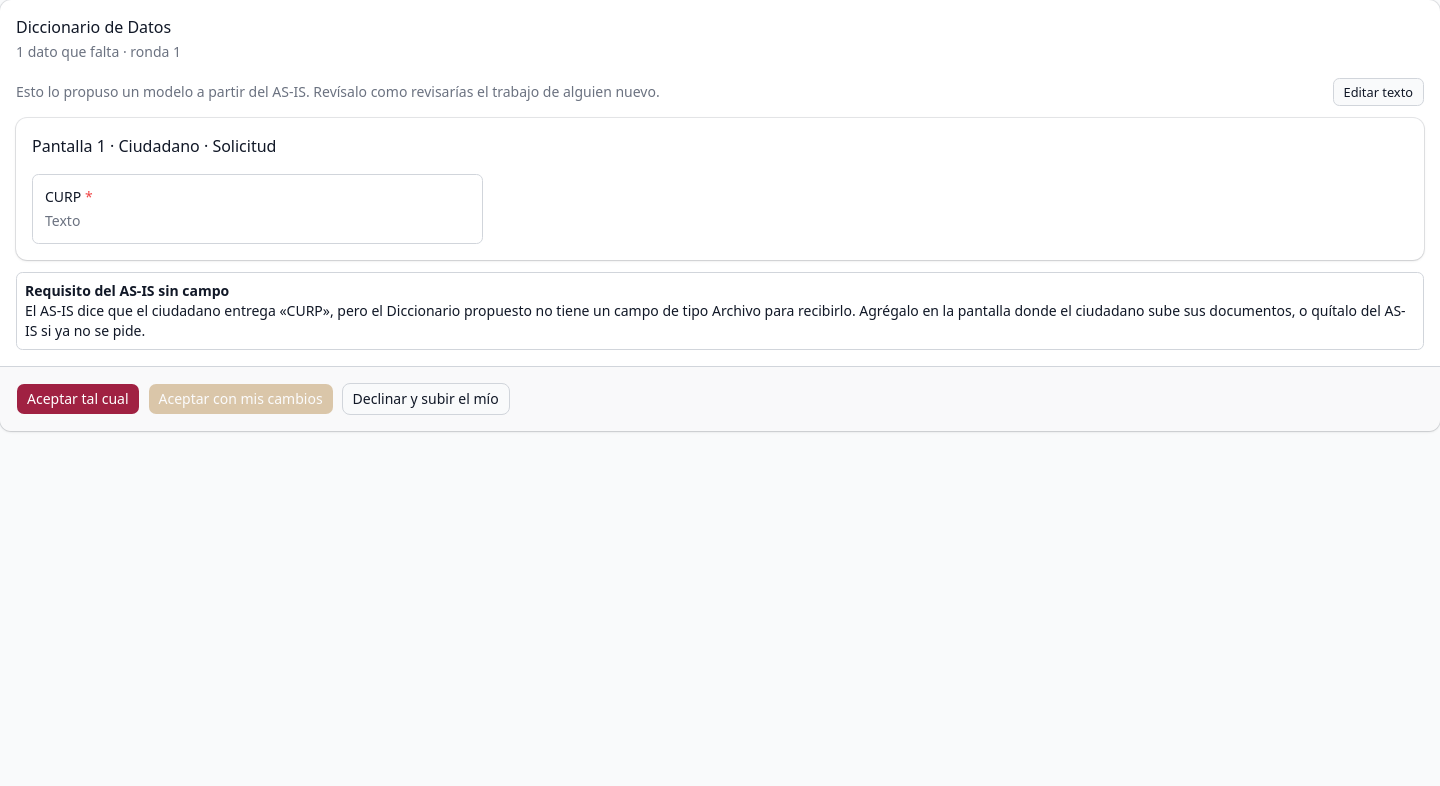
Test: con cambios sin aceptar lo dice, aunque se este viendo la vista o el diagrama
Expected: the text "cambios sin aceptar" is not shown
Click the button "Editar texto". click: (1378,92)
box: [1333,78,1424,106]
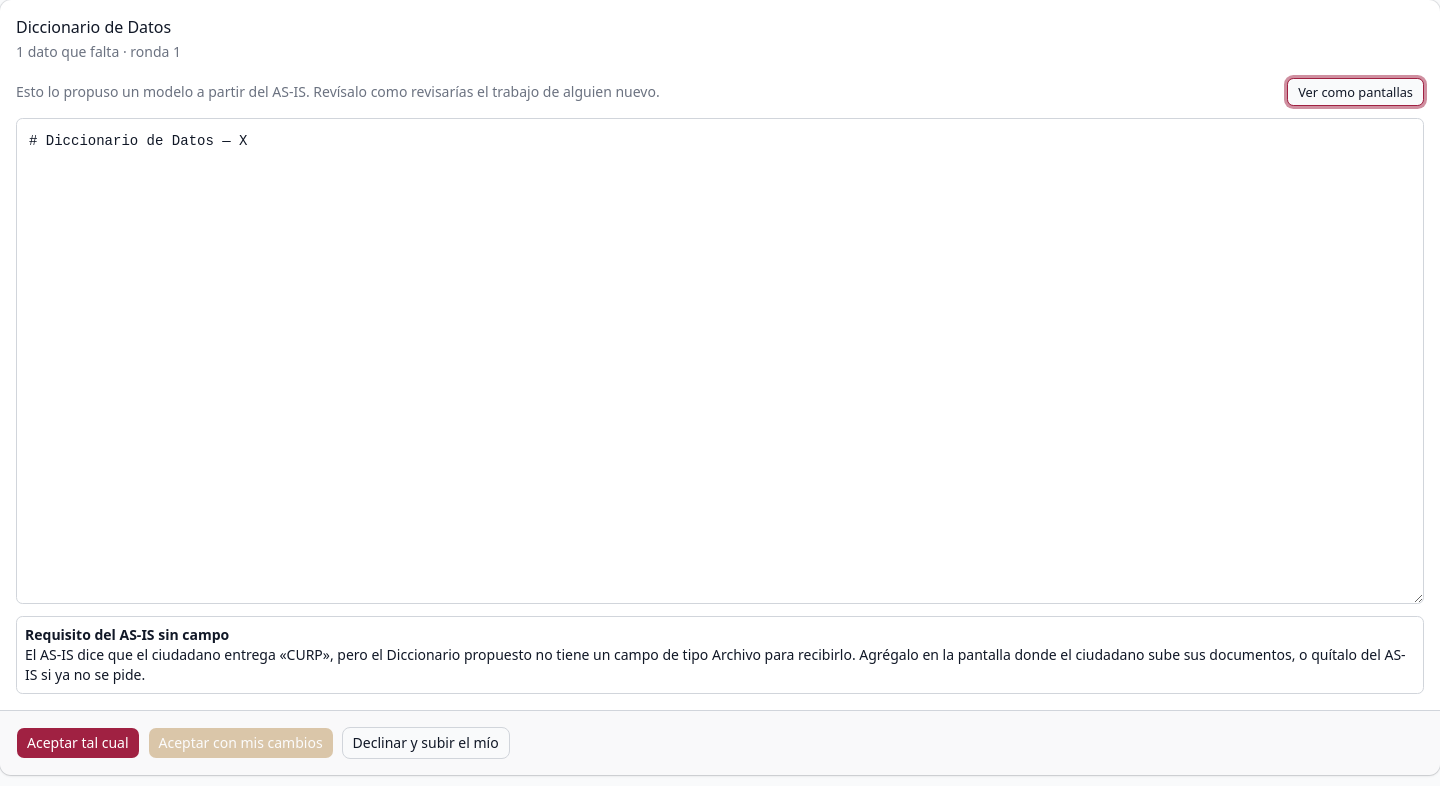
Type "más" into the text box. click: (720,361)
box: [16,118,1424,604]
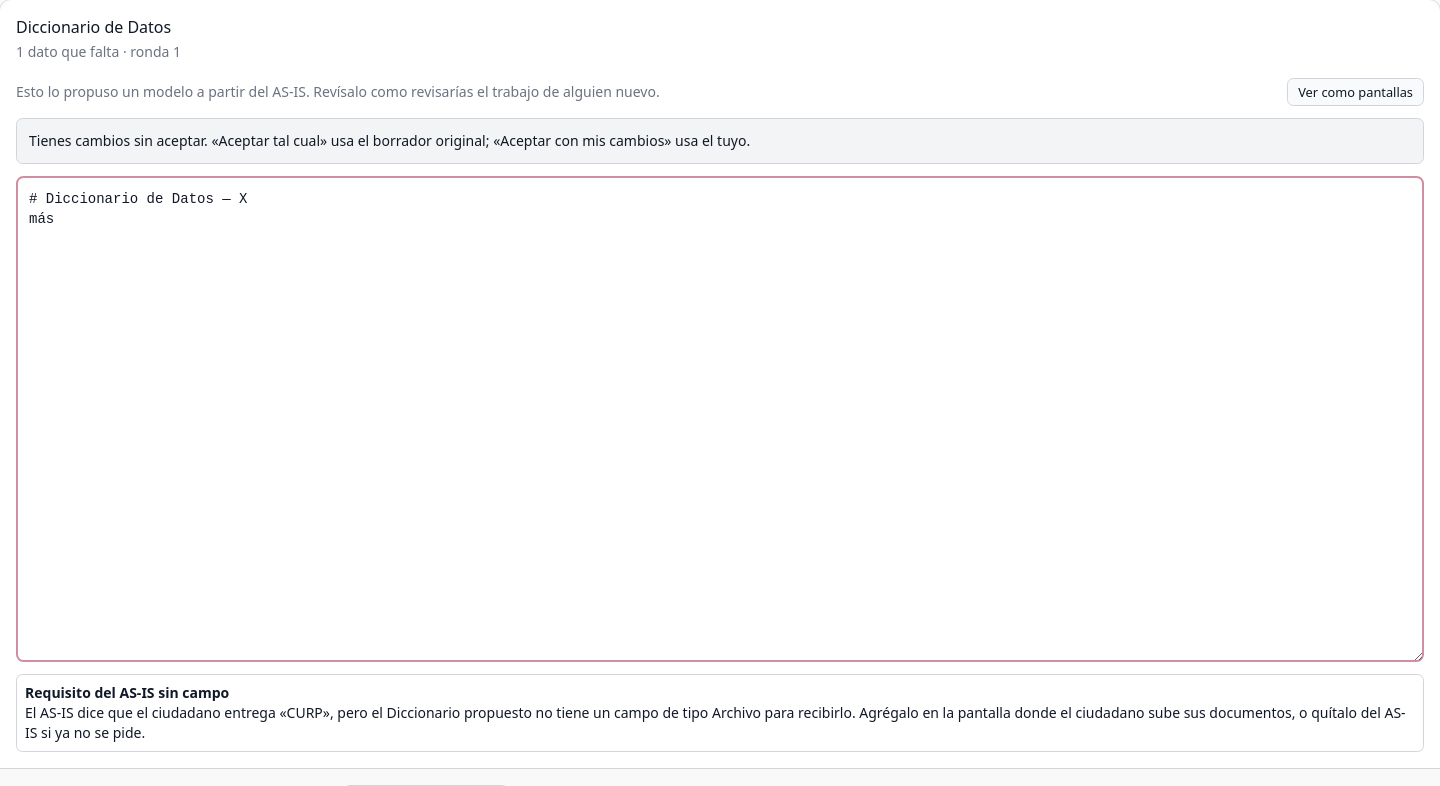
Click the button "Ver como pantallas". click: (1356,92)
box: [1287,78,1424,106]
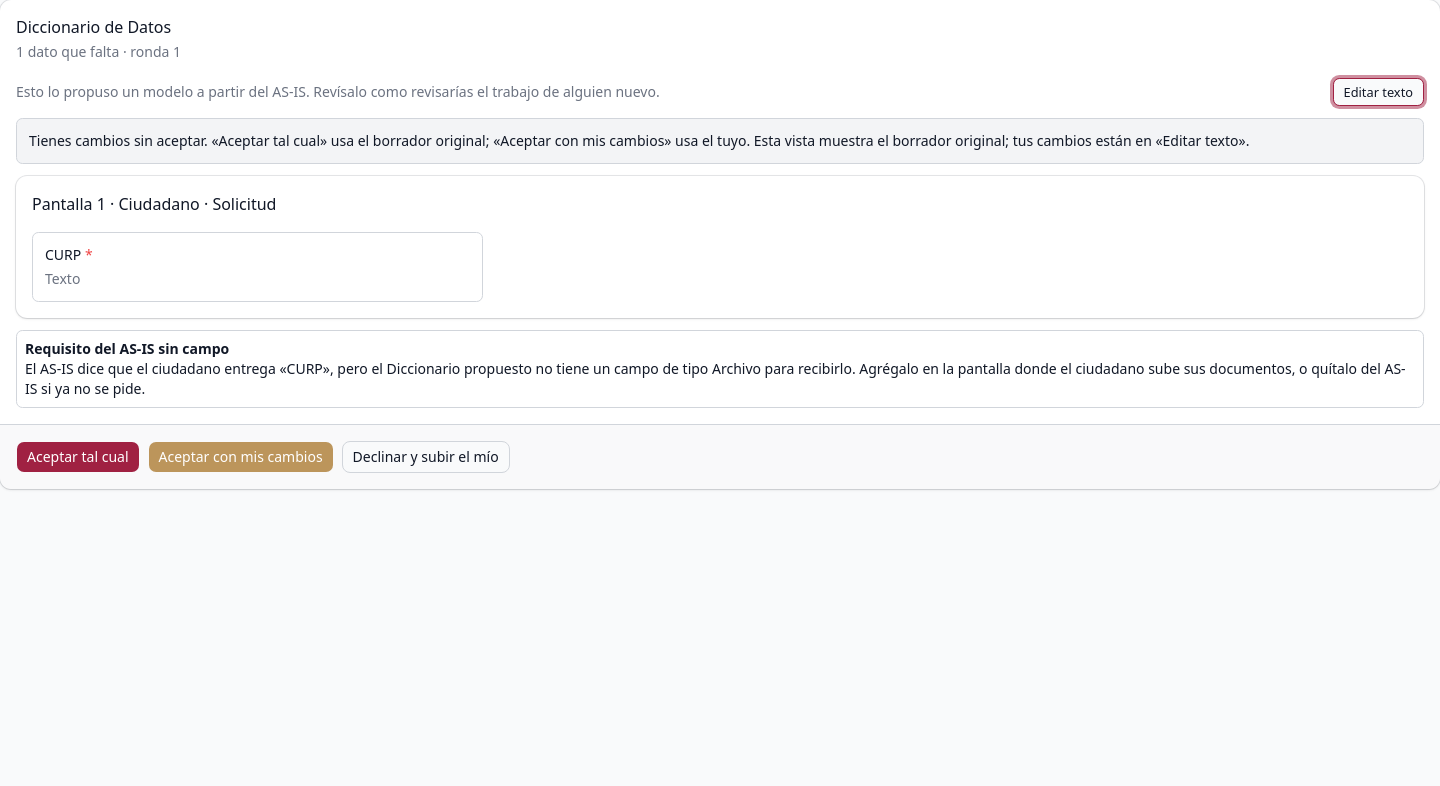
Now the text "cambios sin aceptar" shows "esta vista muestra el borrador original", box [750,131,1249,150]
